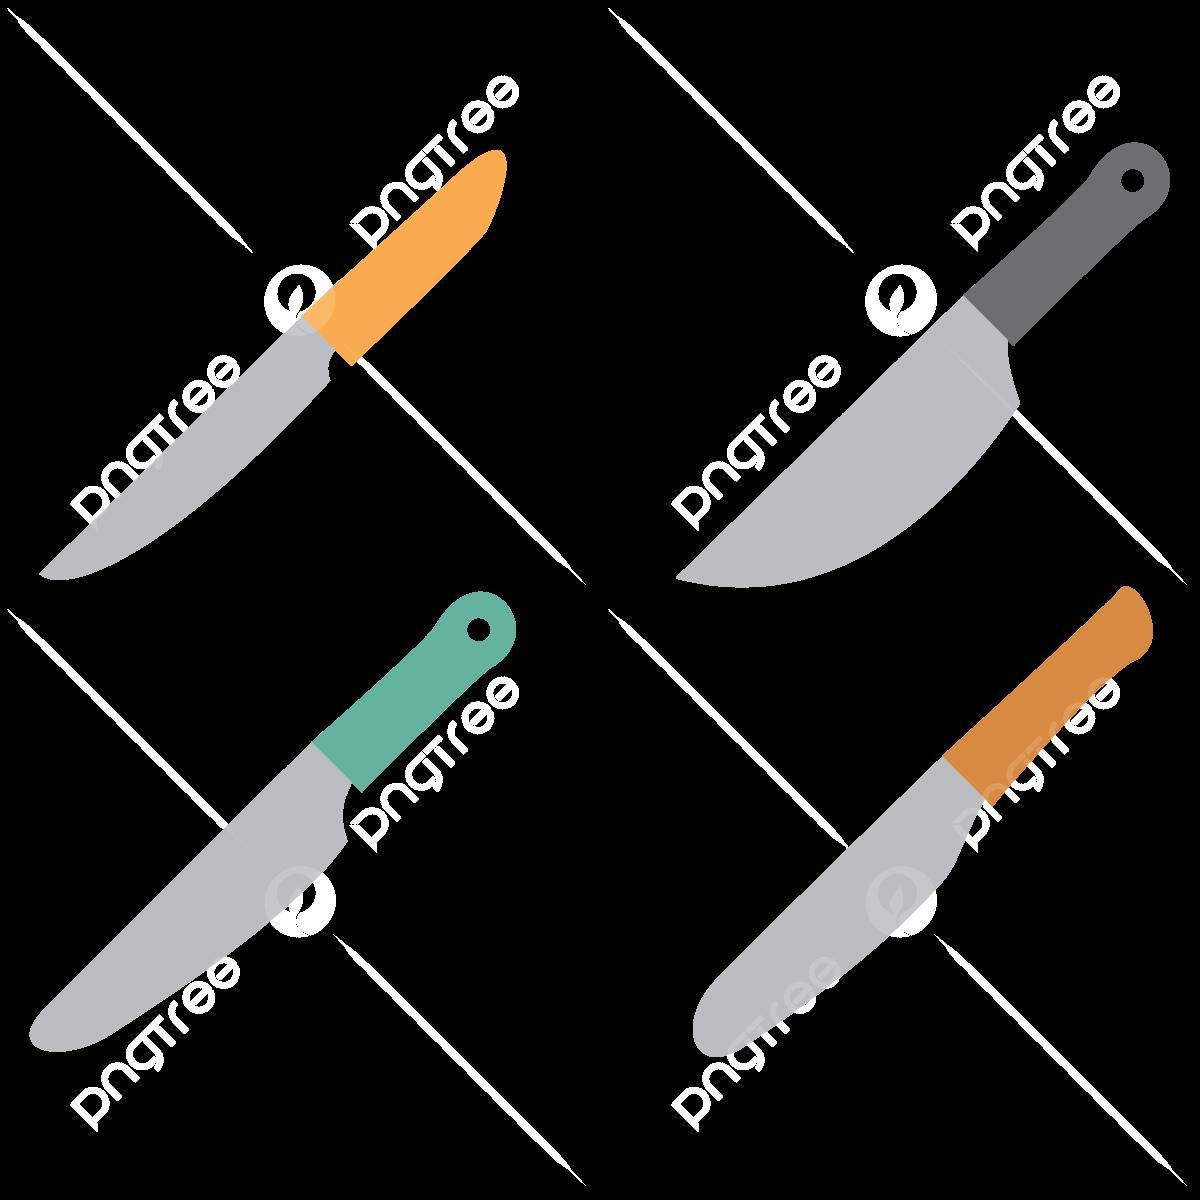faca: (31, 591, 516, 1051), (677, 143, 1169, 588), (693, 588, 1151, 1056), (41, 149, 505, 580)
